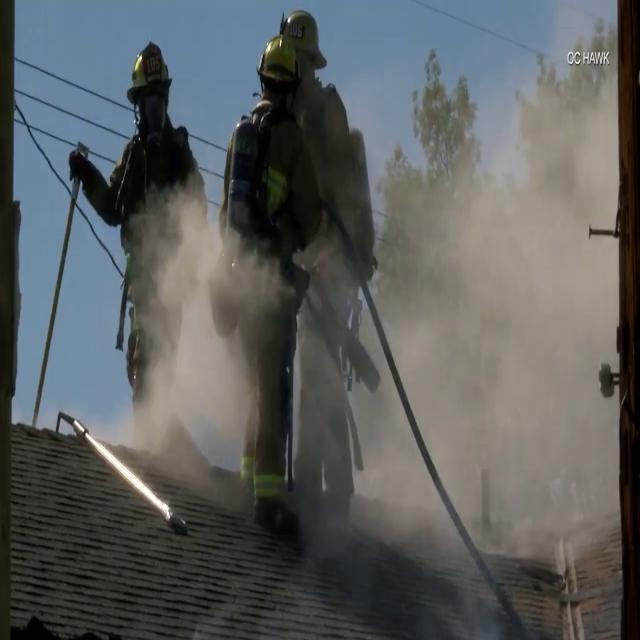Smoke: (302, 110, 622, 625), (120, 173, 278, 464)
